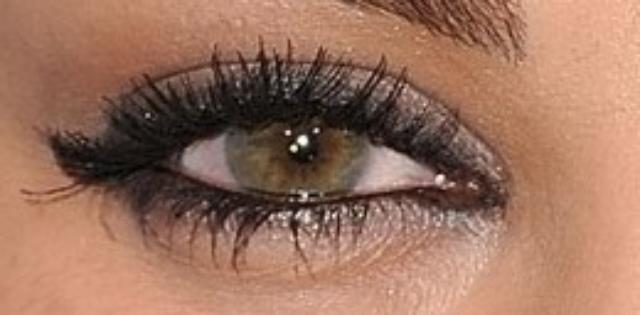eye: (235, 90, 373, 202)
